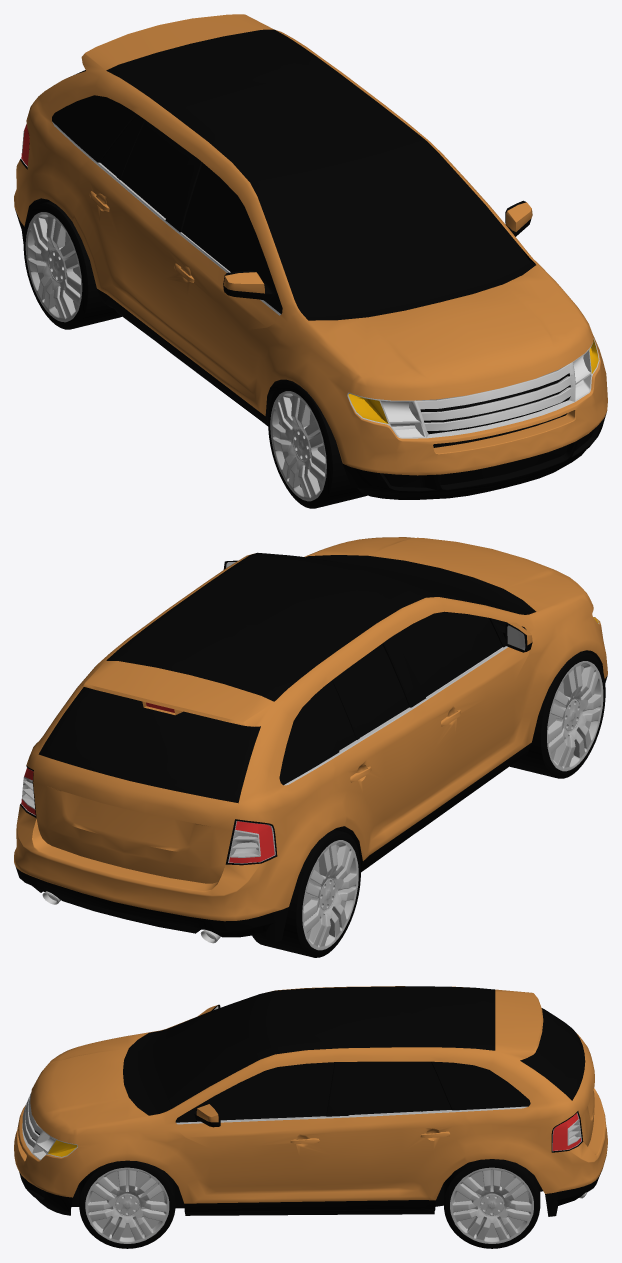
The model's file is 09_edge.glb.
3 views of the same model, one above another, from view 1: azimuth 30°, elevation 25°; view 2: azimuth 150°, elevation 25°; view 3: azimuth 270°, elevation 25° (orthographic). The views are drawn at different scales.
Visible parts, largest first — view 1: Object_2; view 2: Object_2; view 3: Object_2.
Boxes of the visible parts, x1,y1,x2,y2 form: Object_2: (14,14,607,508); Object_2: (14,537,607,957); Object_2: (14,986,607,1248).
Bounding box in the file's own units: 2257 × 1769 × 5113.
